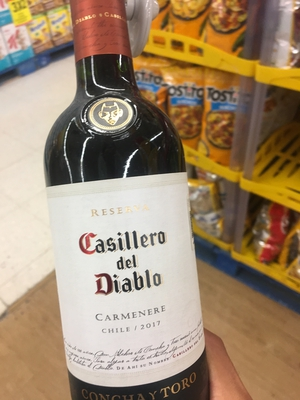casillero del diablo carmenere: (30, 45, 219, 400)
